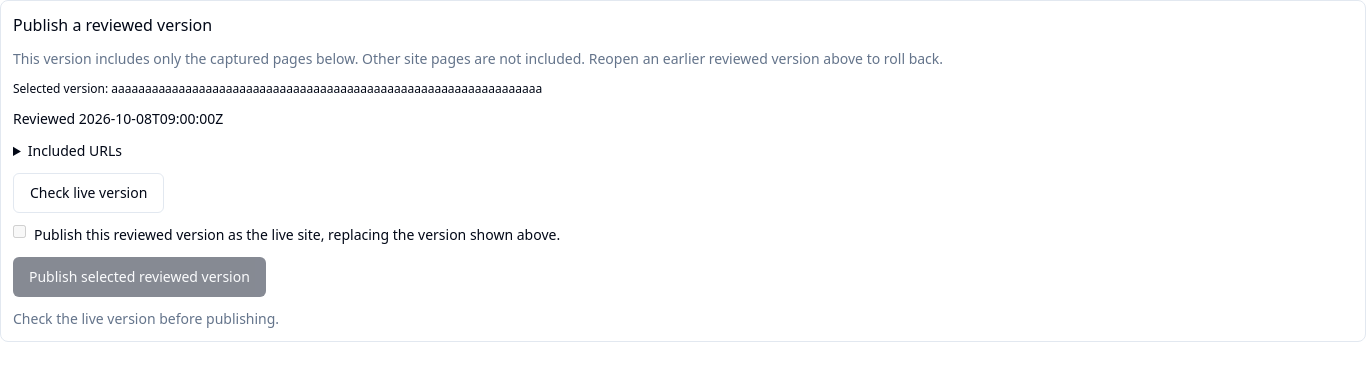
Scenario: guarded publication panel › allows first publication only after verified inactive state
The width and height of the screenshot is (1366, 387).
Click the button "Check live version" at (89, 193), box [13, 173, 164, 213]
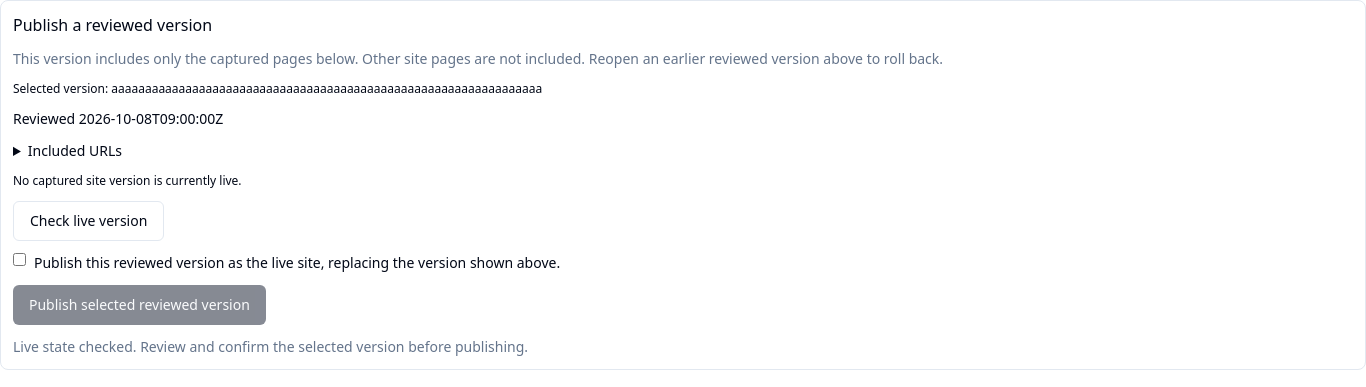
Result: the text "Live state checked. Review and confirm the selected version before publishing." is shown at [13, 337, 528, 356]
Click the checkbox named "Confirm selected version replaces live site" at (20, 260), box [13, 253, 26, 266]
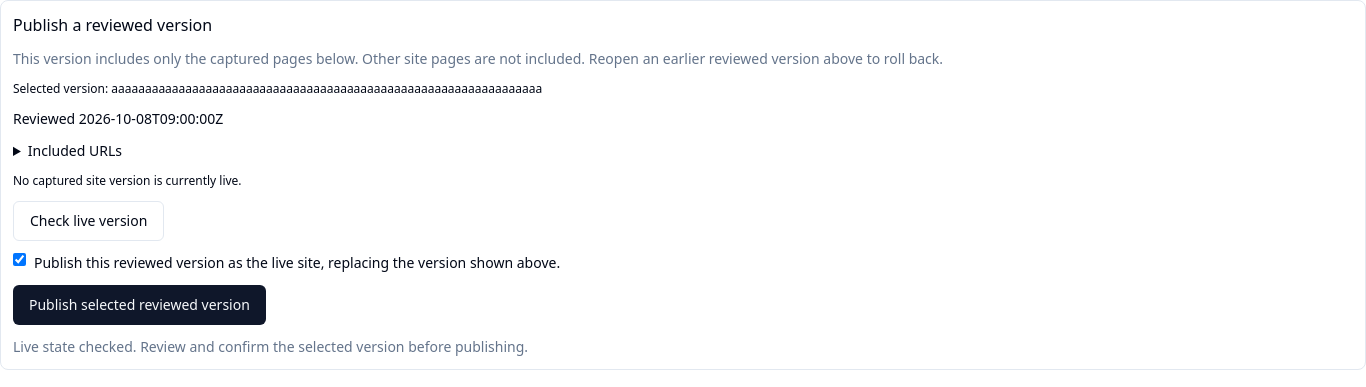
Click the button "Publish selected reviewed version" at (139, 305), box [13, 285, 266, 325]
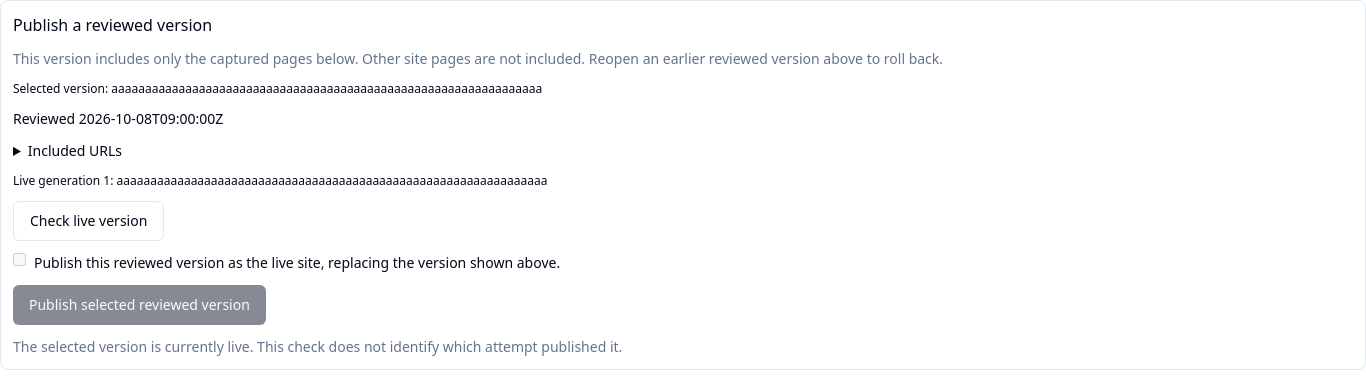
Result: the text "selected version is currently live" is shown at [13, 337, 622, 356]
